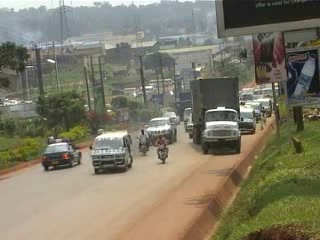Car: (37, 138, 84, 171), (143, 115, 180, 143), (156, 109, 184, 127)
Motorcycle: (132, 128, 153, 156), (151, 137, 171, 165)
